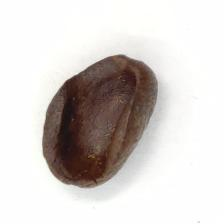NG: (46, 55, 140, 185)
